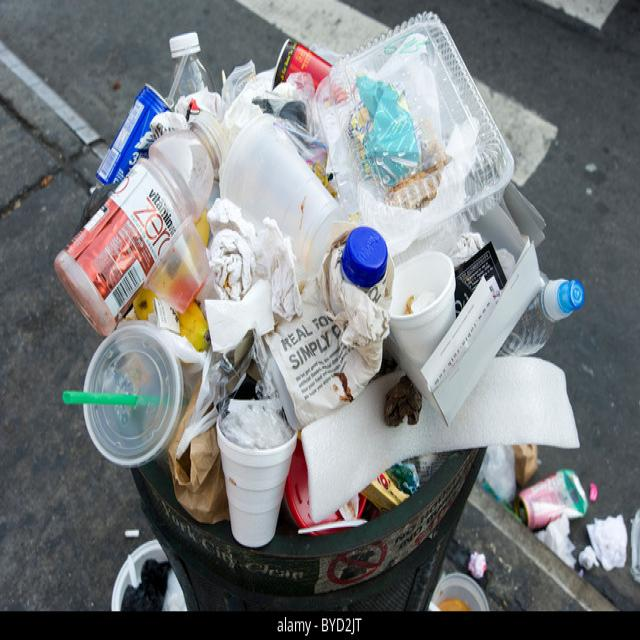plastic: (82, 340, 291, 557), (330, 11, 519, 234), (68, 119, 241, 291), (211, 412, 296, 525), (511, 476, 611, 554), (524, 273, 587, 340), (343, 228, 389, 303), (164, 33, 209, 92)
